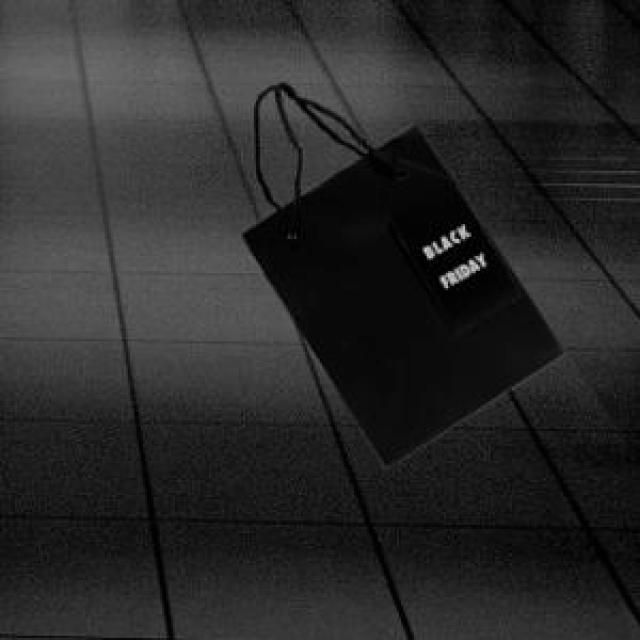paper: (237, 79, 559, 463)
